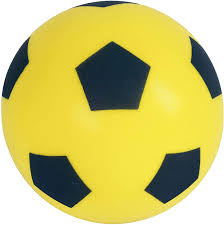football ball: (1, 1, 221, 225)
